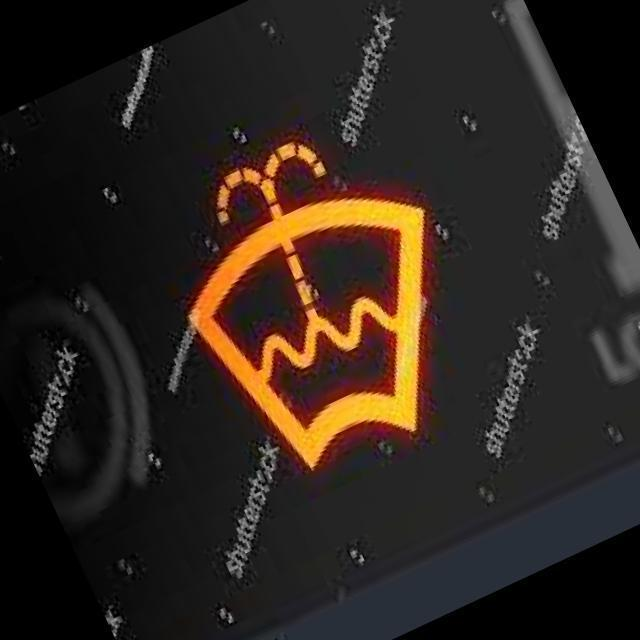Washer Fluid: (190, 144, 425, 468)
